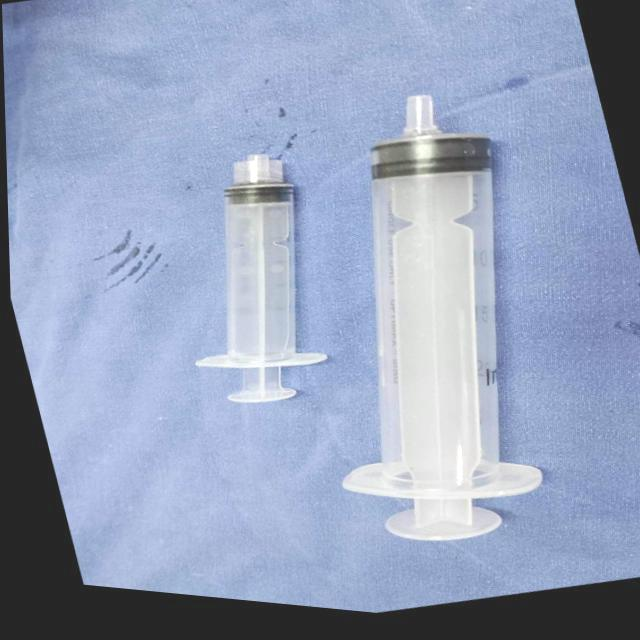Sharps: (342, 92, 544, 541), (195, 152, 329, 403)
